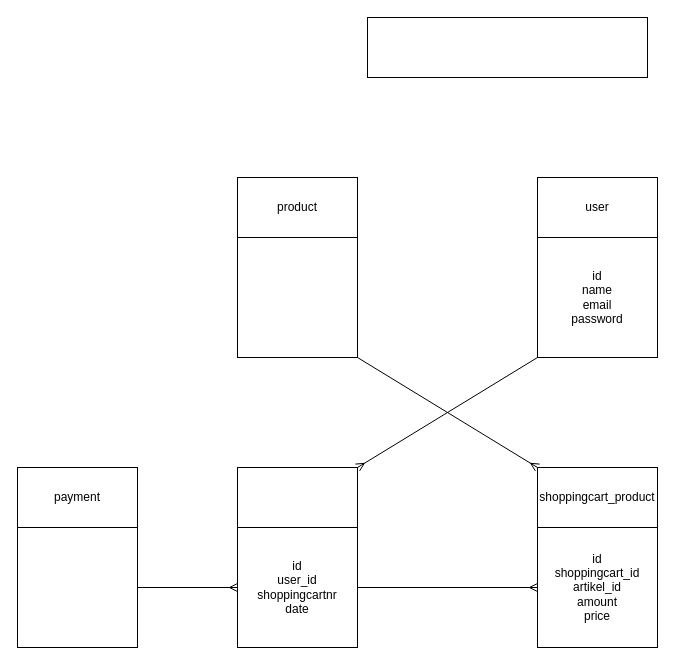
Some shapes in this 675 by 665 pixel diagram are drawn without their labels. Each missing label, with the centre of its shape:
ERD Webshop: (507,47)
id artikelnr name file image price description: (297,297)
id user_id shoppingcart_id total_price: (77,587)
shoppingcart: (297,497)
